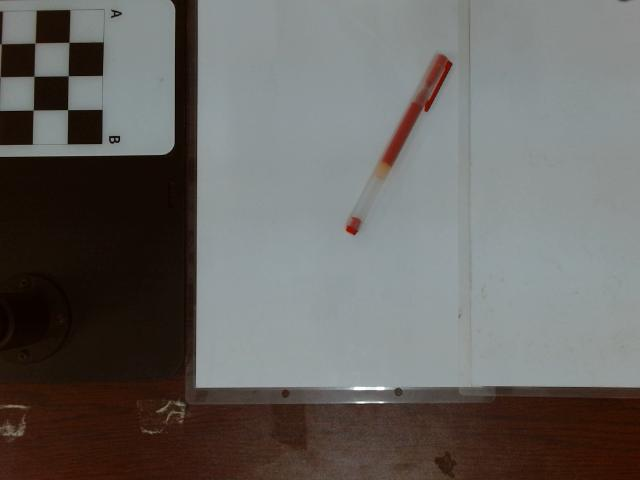PEN: (343, 51, 454, 239)
